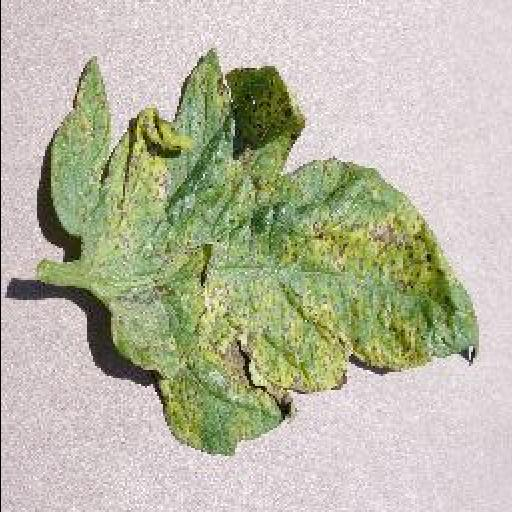disease_tomato: (50, 48, 480, 458)
